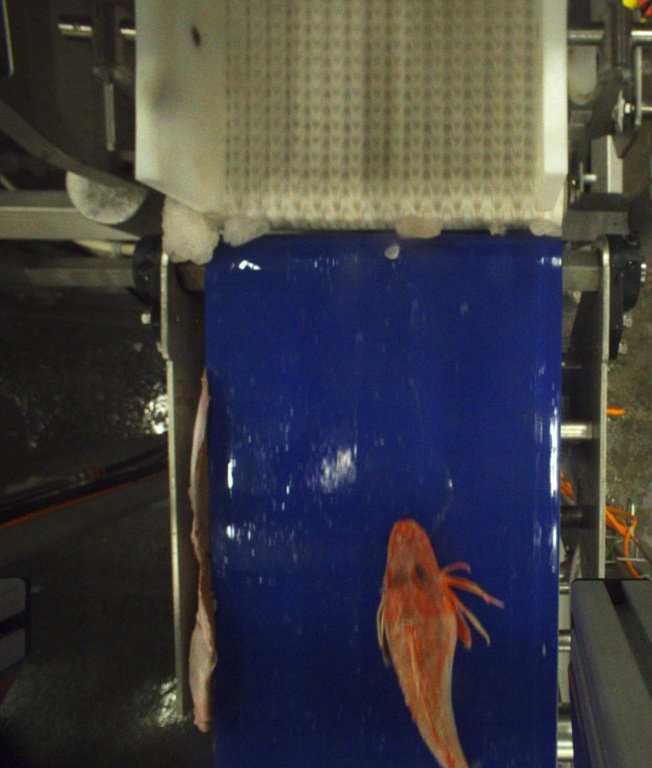GUU: (376, 517, 506, 768)
